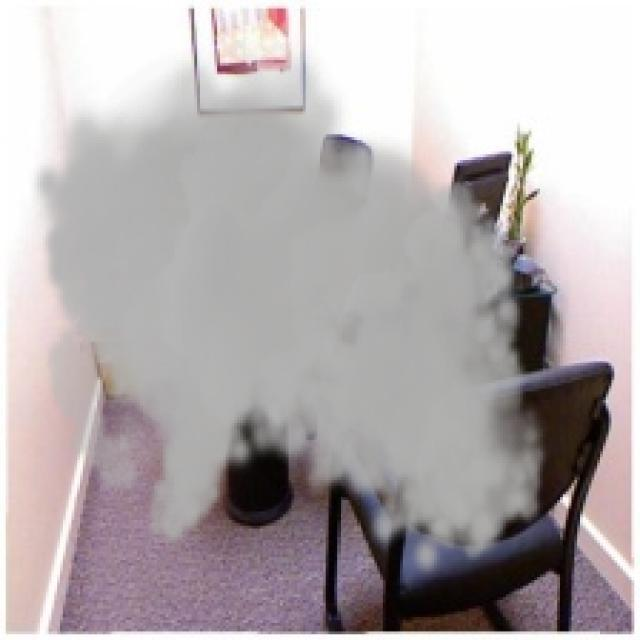Smoke: (29, 37, 548, 580)
